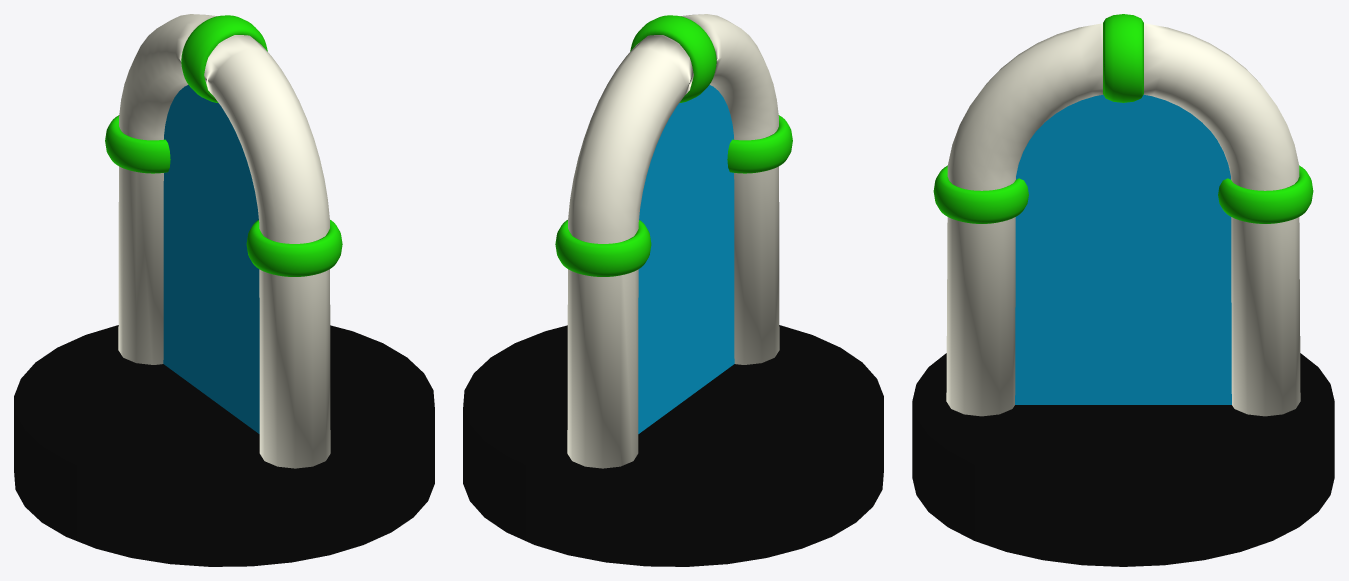
File: espejo.fbx
3 views of the same model, side by side, from view 1: azimuth 30°, elevation 25°; view 2: azimuth 150°, elevation 25°; view 3: azimuth 270°, elevation 25° (orthographic).
Visible parts, largest first — view 1: Cylinder.001, Torus, Cylinder, Torus.003, Torus.001, Torus.002; view 2: Cylinder.001, Torus, Cylinder, Torus.002, Torus.001, Torus.003; view 3: Cylinder, Cylinder.001, Torus, Torus.001, Torus.002, Torus.003.
Part boxes in pixels (x1,y1,x2,y2): Cylinder.001: (14, 325, 434, 566); Torus: (118, 14, 330, 468); Cylinder: (163, 85, 259, 433); Torus.003: (246, 220, 342, 276); Torus.001: (181, 15, 267, 102); Torus.002: (105, 115, 170, 173); Cylinder.001: (463, 325, 883, 566); Torus: (567, 14, 779, 468); Cylinder: (638, 85, 734, 433); Torus.002: (555, 220, 651, 276); Torus.001: (630, 15, 716, 102); Torus.003: (727, 115, 792, 173); Cylinder: (1015, 95, 1231, 404); Cylinder.001: (912, 353, 1334, 566); Torus: (946, 23, 1300, 416); Torus.001: (1103, 14, 1143, 102); Torus.002: (1218, 165, 1313, 223); Torus.003: (933, 165, 1028, 223).
Bounding box in the file's own units: 298 × 358 × 298.
